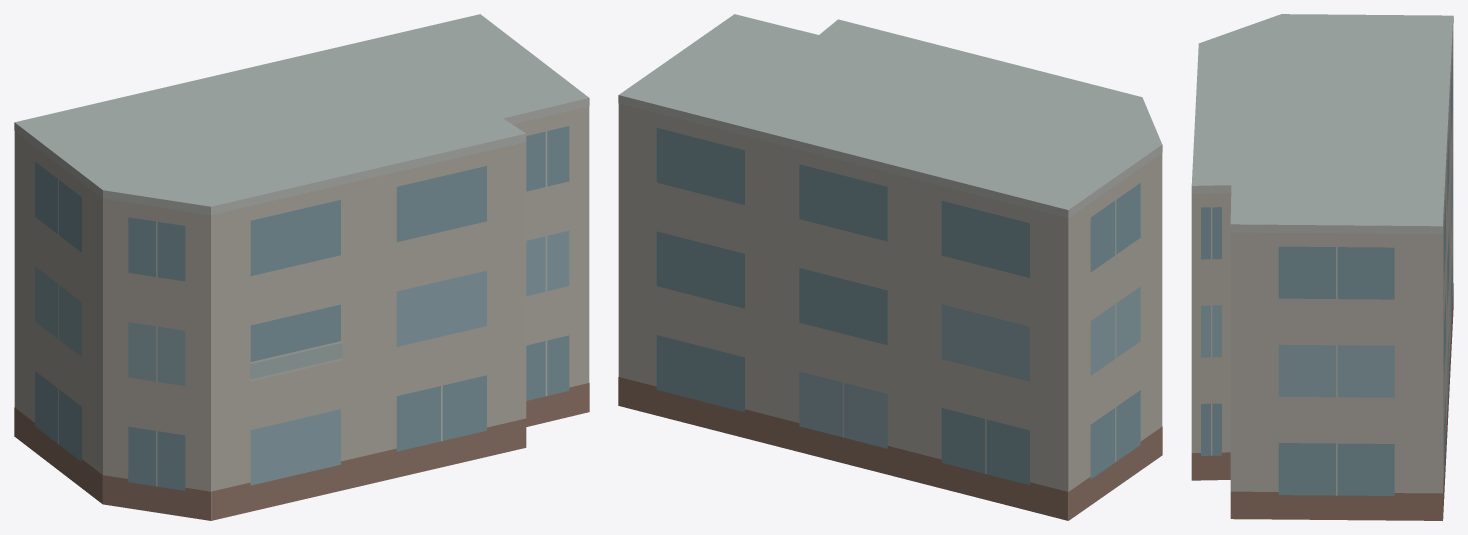
Rendered from survey-upis-32716811.glb.
3 renders of one model, left to right at view 1: azimuth 30°, elevation 25°; view 2: azimuth 150°, elevation 25°; view 3: azimuth 270°, elevation 25°, orthographic. The views are drawn at different scales.
Parts seen in each view (by area): view 1: survey-upis-32716811.tmp; view 2: survey-upis-32716811.tmp; view 3: survey-upis-32716811.tmp.
Part boxes in pixels (x1,y1,x2,y2): survey-upis-32716811.tmp: [14, 14, 589, 520]; survey-upis-32716811.tmp: [618, 14, 1162, 520]; survey-upis-32716811.tmp: [1191, 14, 1453, 520].
Size of the model in its own units: 14.14 by 9.15 by 7.37.
